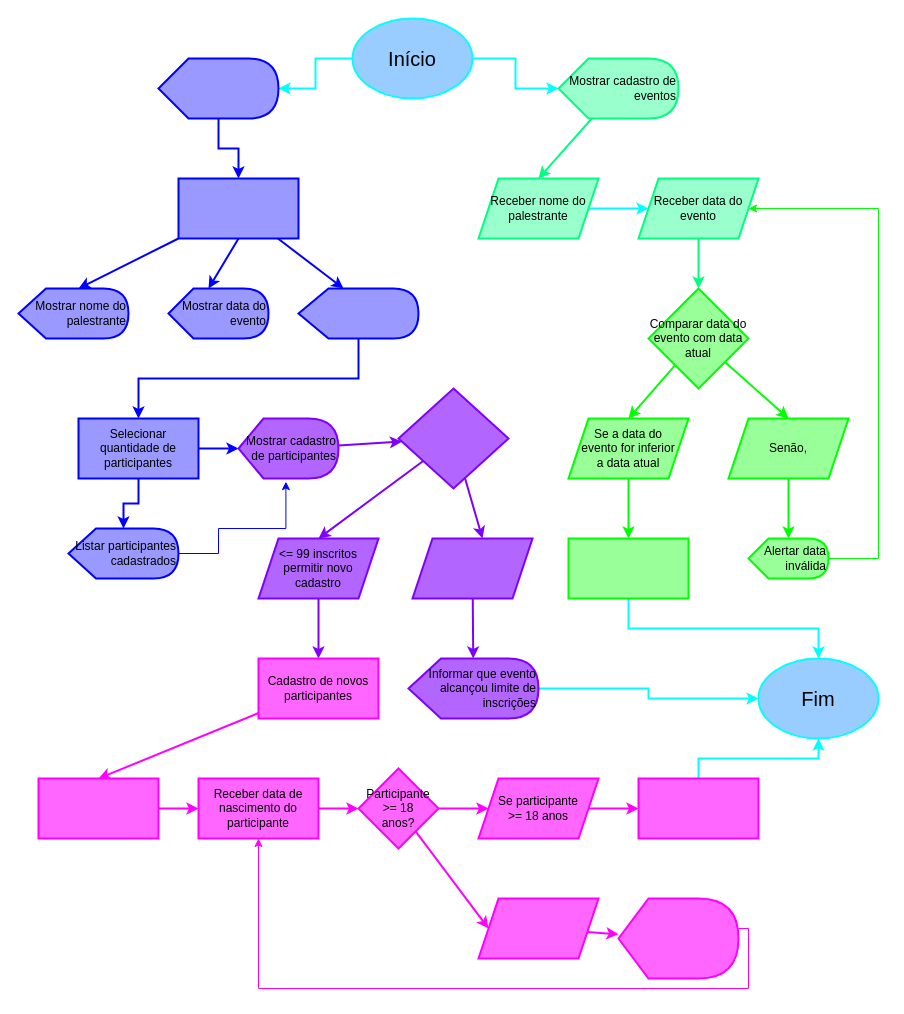
This 904x1014 diagram has some shape labels left out. Each missing label, with the centre of its shape:
"= 100 inscritos, não permitir nova inscrição" goes at [472,568].
"Alertar que não é permitido menores de 18 anos participatem dos eventos." goes at [678,938].
"De acordo com a quantidade de inscritos:" goes at [453,438].
"Mostrar eventos cadastrados" goes at [218,88].
"Mostrar quantidade de participantes" goes at [358,313].
"Permitir cadastro" goes at [698,808].
"Permitir cadastro do evento" goes at [628,568].
"Receber nome do participante" goes at [98,808].
"Se participante < 18 anos" goes at [538,928].
"Selecionar evento da lista de eventos cadastrados" goes at [238,208].
